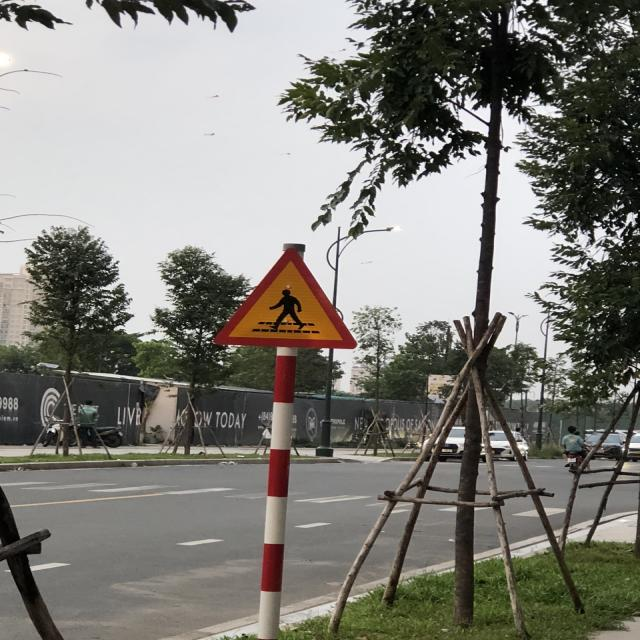Bien bao duong nguoi di bo cat ngang: (192, 242, 372, 358)
